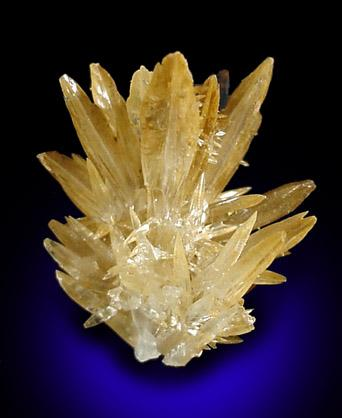calcite: (37, 52, 317, 368)
